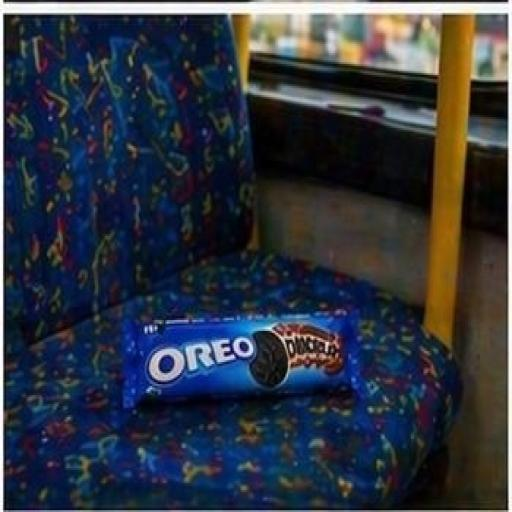oreo: (89, 241, 380, 454)
